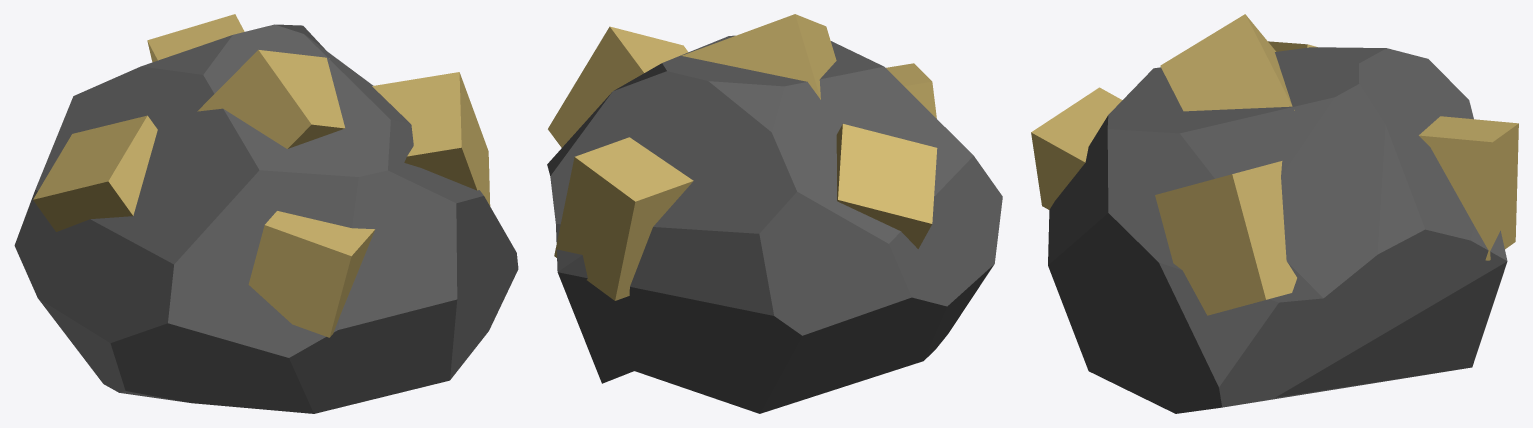
The model's file is iron.fbx.
3 renders of one model, left to right at view 1: azimuth 30°, elevation 25°; view 2: azimuth 150°, elevation 25°; view 3: azimuth 270°, elevation 25°, orthographic.
Visible parts, largest first — view 1: Sphere, Cube.002, Cube.001, Cube, Cube.004, Cube.003; view 2: Sphere, Cube.003, Cube.001, Cube, Cube.004, Cube.002; view 3: Sphere, Cube.004, Cube.003, Cube, Cube.002.
Part boxes in pixels (x1=…): Sphere: x1=14, y1=24, x2=518, y2=413; Cube.002: x1=248, y1=211, x2=375, y2=337; Cube.001: x1=33, y1=115, x2=157, y2=231; Cube: x1=197, y1=50, x2=345, y2=148; Cube.004: x1=372, y1=72, x2=490, y2=205; Cube.003: x1=147, y1=14, x2=244, y2=62; Sphere: x1=547, y1=35, x2=1002, y2=413; Cube.003: x1=554, y1=137, x2=693, y2=300; Cube.001: x1=836, y1=124, x2=937, y2=248; Cube: x1=681, y1=14, x2=836, y2=99; Cube.004: x1=548, y1=26, x2=688, y2=147; Cube.002: x1=886, y1=63, x2=936, y2=118; Sphere: x1=1048, y1=47, x2=1507, y2=413; Cube.004: x1=1155, y1=161, x2=1296, y2=315; Cube.003: x1=1419, y1=116, x2=1518, y2=260; Cube: x1=1160, y1=14, x2=1294, y2=111; Cube.002: x1=1031, y1=87, x2=1122, y2=209.
Size of the model in its own units: 675 by 463 by 653.
